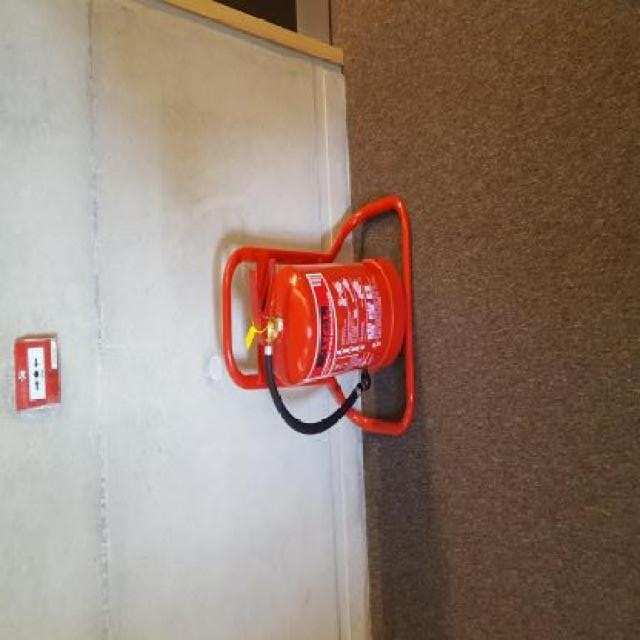fire extinguisher: (247, 256, 405, 436)
